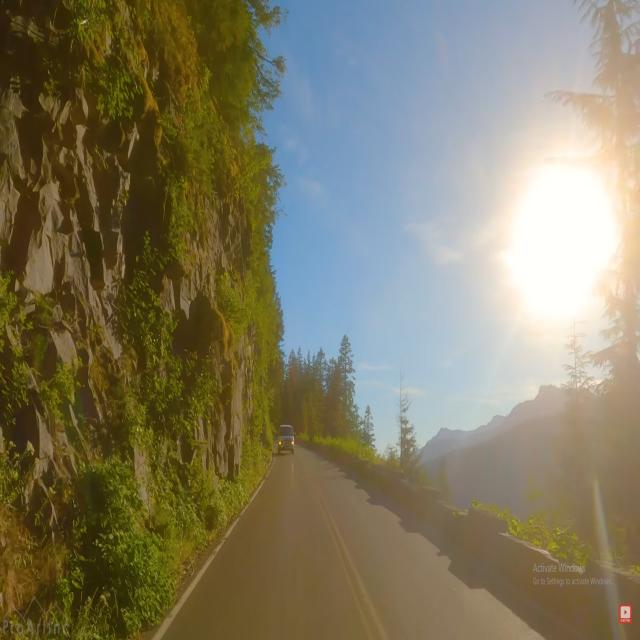sun: (494, 120, 618, 352)
